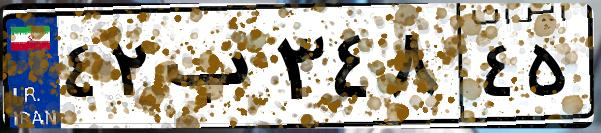2: (110, 28, 158, 98)
3: (270, 28, 330, 110)
4: (330, 28, 385, 110), (57, 26, 110, 100), (475, 38, 525, 113)
5: (525, 38, 570, 115)
8: (385, 28, 445, 110)
ب: (158, 20, 270, 120)
